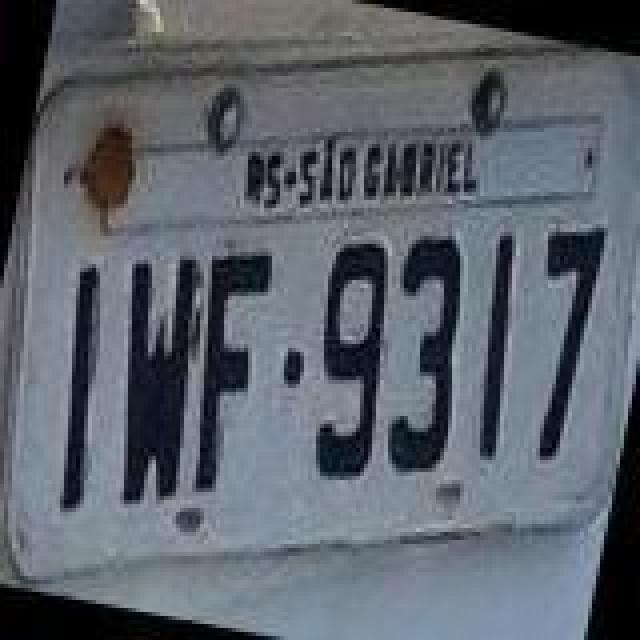1: (32, 260, 128, 516), (454, 226, 538, 462)
3: (362, 228, 486, 484)
7: (504, 214, 608, 466)
9: (290, 232, 414, 488)
F: (164, 238, 276, 498)
W: (84, 244, 220, 516)
